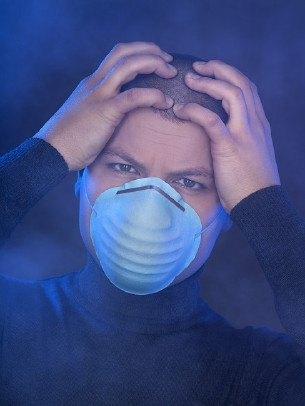Mask: (81, 137, 242, 298)
